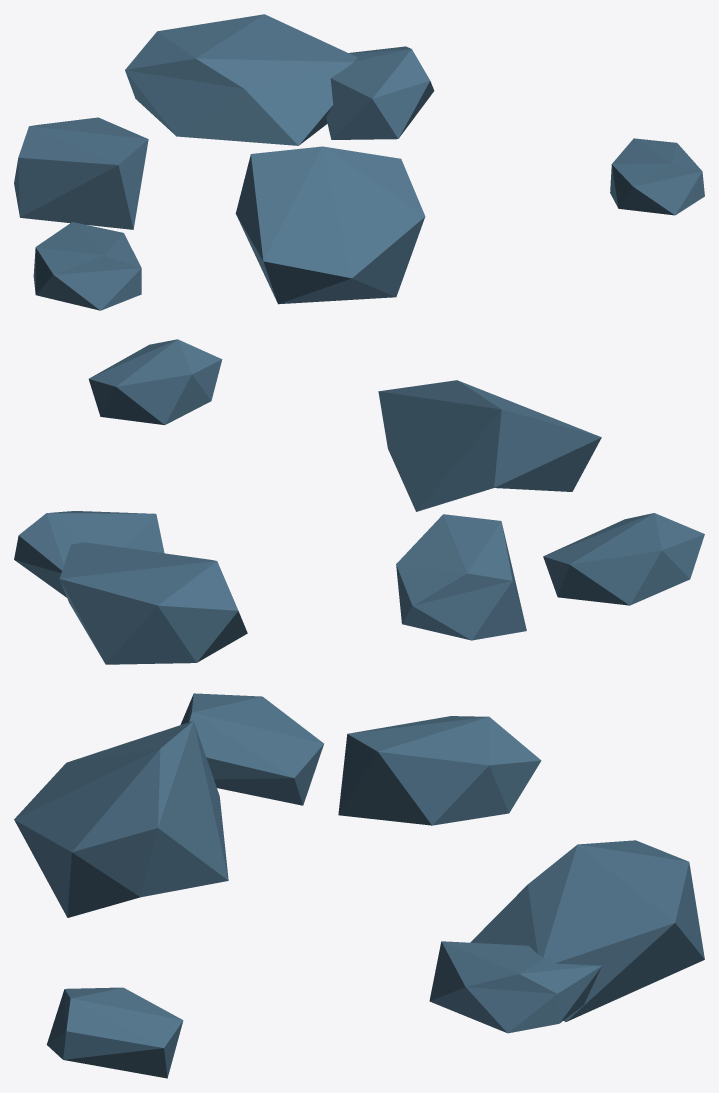
The model's file is Rune_00_rock.FBX.
The picture shows the model from 3 angles, top to bottom: view 1: azimuth 30°, elevation 25°; view 2: azimuth 150°, elevation 25°; view 3: azimuth 270°, elevation 25°; orthographic projection. The views are drawn at different scales.
Visible parts, largest first — view 1: Rune_00_rock; view 2: Rune_00_rock; view 3: Rune_00_rock.
Boxes of the visible parts, <box> form: Rune_00_rock: <box>14,14,704,310</box>; Rune_00_rock: <box>14,339,704,664</box>; Rune_00_rock: <box>14,693,704,1078</box>.
Size of the model in its own units: 56.66 by 12.15 by 47.72.
